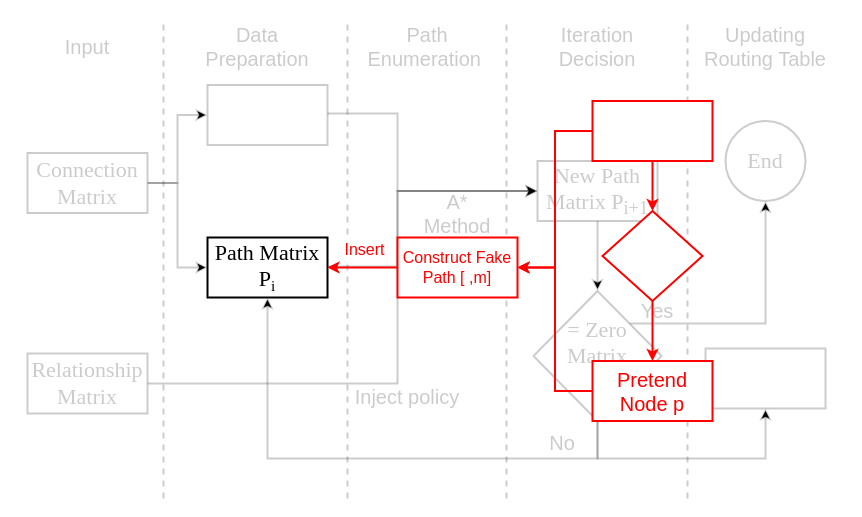
Image size: 862x517. Some labels were removed from this diagram. The centre of each missing label's shape, as x and y in pixels:
Check IP Prefix: pixel 652 256
Link Matrix L: pixel 267 115
Malicious Node m: pixel 652 131
Routing Table: pixel 765 378
